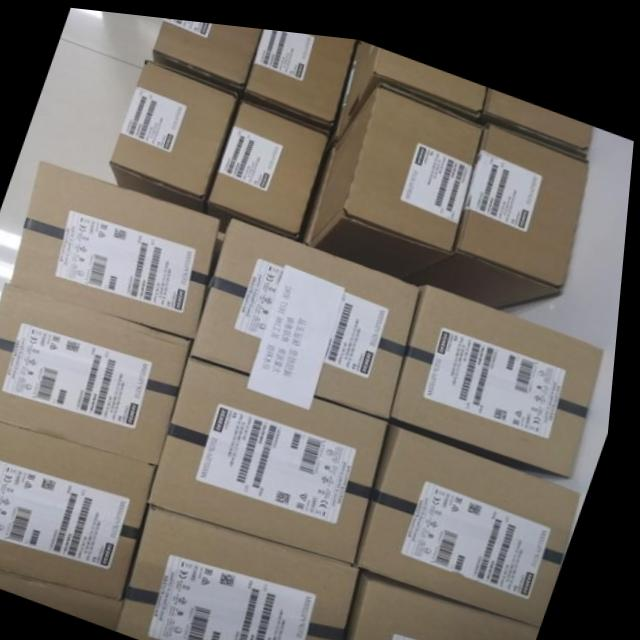box: (157, 350, 393, 554), (193, 213, 424, 409), (363, 416, 585, 615), (396, 273, 610, 465), (14, 158, 223, 336), (0, 287, 196, 462), (127, 500, 369, 640), (315, 74, 485, 271), (432, 109, 591, 297), (0, 418, 166, 595), (111, 56, 238, 205), (207, 93, 331, 233), (354, 560, 549, 640), (341, 32, 489, 123), (244, 23, 357, 124), (152, 14, 262, 90), (0, 567, 132, 627), (482, 78, 596, 143)
